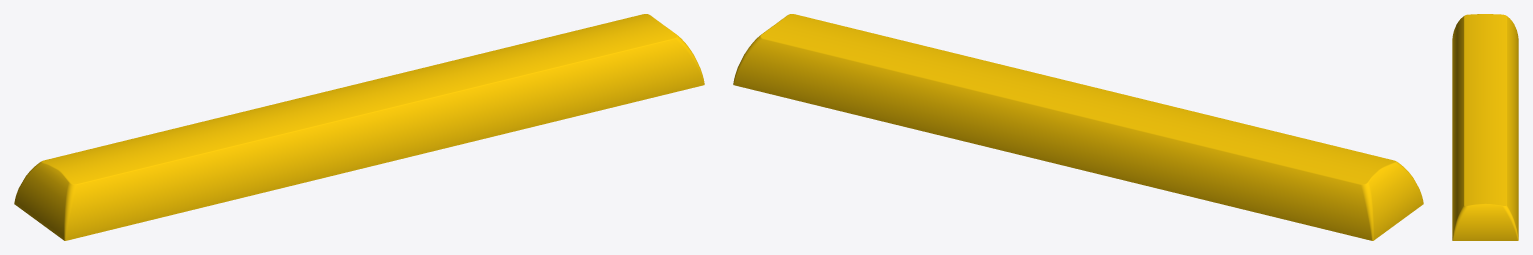
Rendered from 7u_convex.glb.
3 renders of one model, left to right at view 1: azimuth 30°, elevation 25°; view 2: azimuth 150°, elevation 25°; view 3: azimuth 270°, elevation 25°, orthographic. The views are drawn at different scales.
Visible parts, largest first — view 1: Body25; view 2: Body25; view 3: Body25.
Boxes of the visible parts, x1,y1,x2,y2 form: Body25: [14, 14, 704, 240]; Body25: [733, 14, 1423, 240]; Body25: [1452, 14, 1518, 240].
Bounding box in the file's own units: 132 × 9.46 × 18.27.
